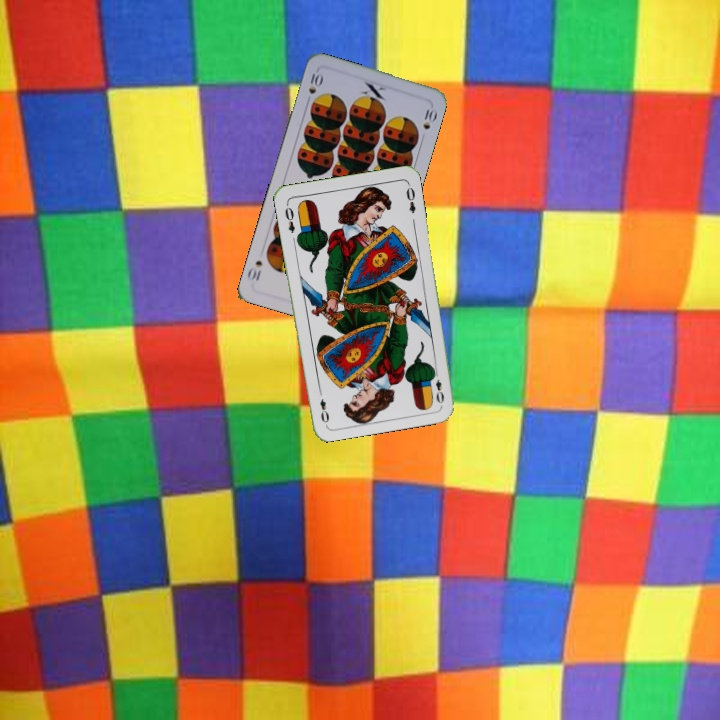EO: (429, 366, 447, 406), (281, 200, 297, 236)
S10: (302, 69, 325, 106)
